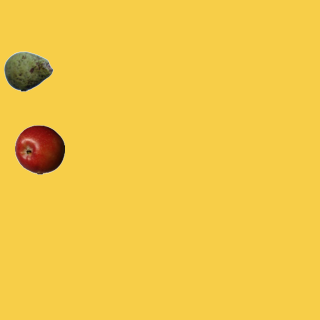Apple Braeburn: (14, 124, 64, 174)
Pear Stone: (3, 46, 53, 96)
